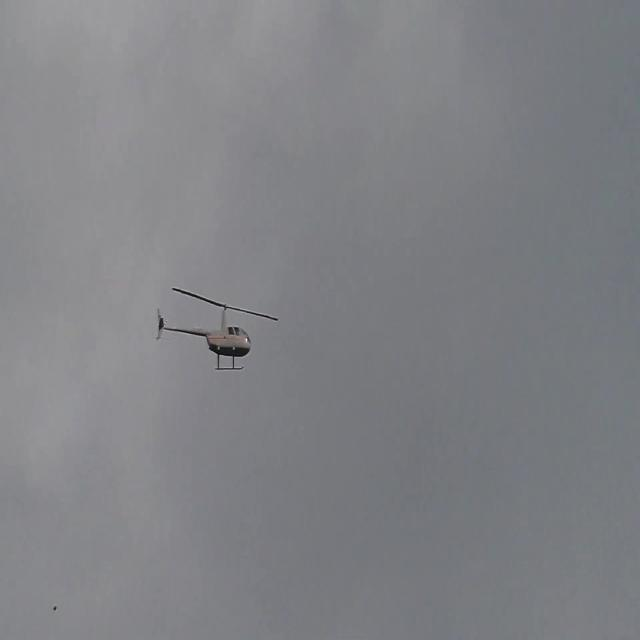CIV_HELO: (156, 302, 250, 372)
